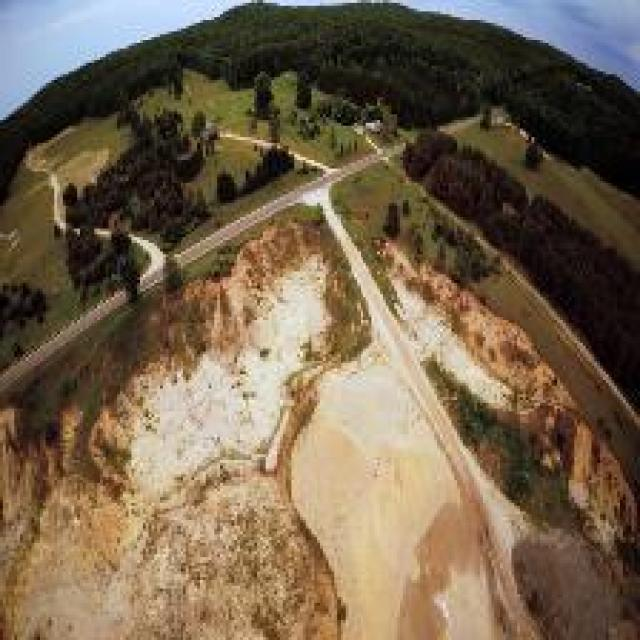other: (140, 276, 520, 604)
